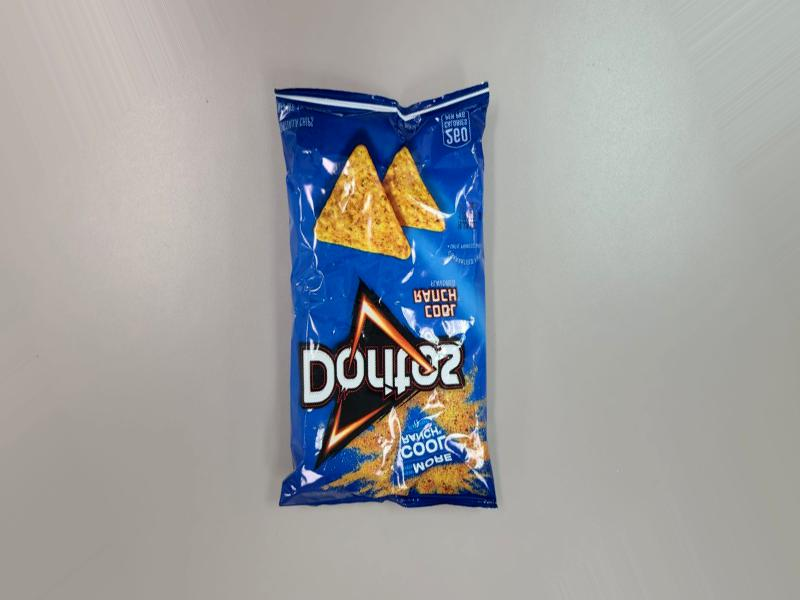doritos: (286, 41, 497, 499)
